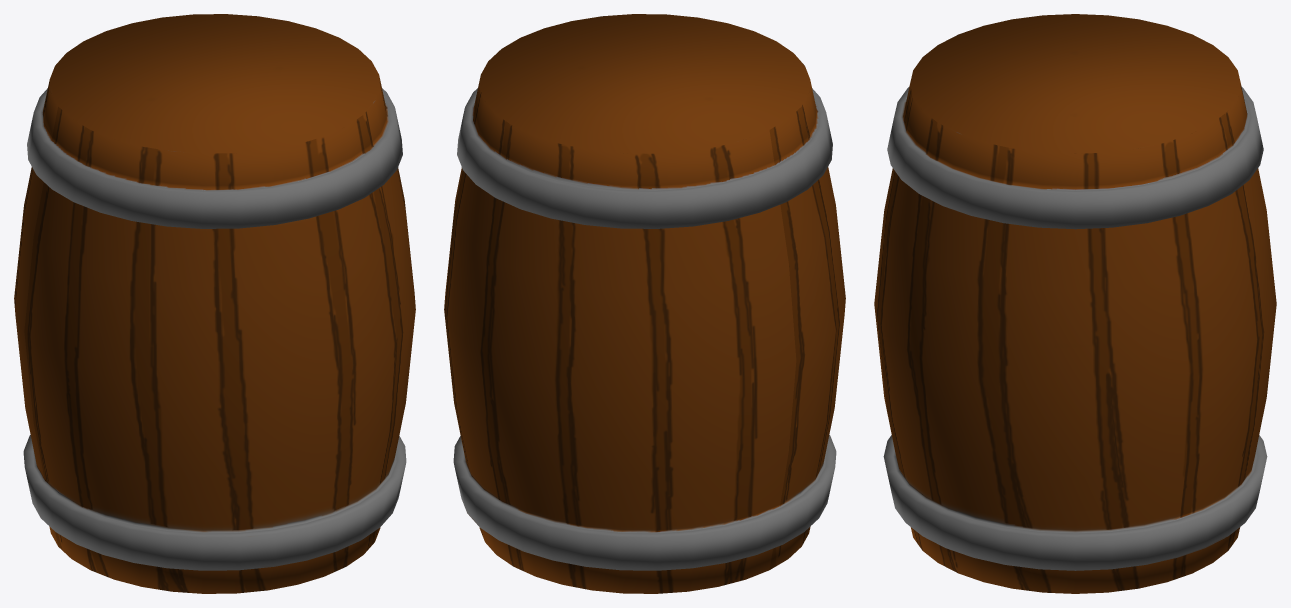
File: Barrel.fbx
3 views of the same model, side by side, from view 1: azimuth 30°, elevation 25°; view 2: azimuth 150°, elevation 25°; view 3: azimuth 270°, elevation 25° (orthographic).
Visible parts, largest first — view 1: Cylinder; view 2: Cylinder; view 3: Cylinder.
Boxes of the visible parts, x1=… form: Cylinder: x1=14, y1=14, x2=415, y2=593; Cylinder: x1=444, y1=14, x2=845, y2=593; Cylinder: x1=874, y1=14, x2=1276, y2=593.
Bounding box in the file's own units: 270 × 325 × 270.
